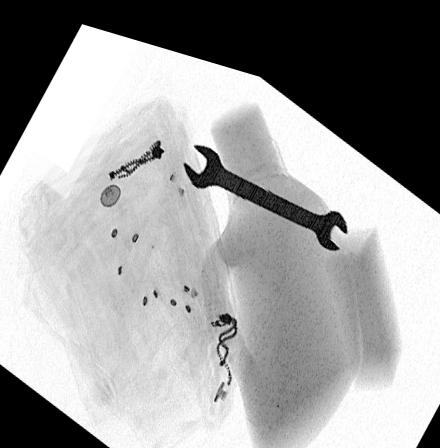Wrench: (181, 130, 350, 232)
